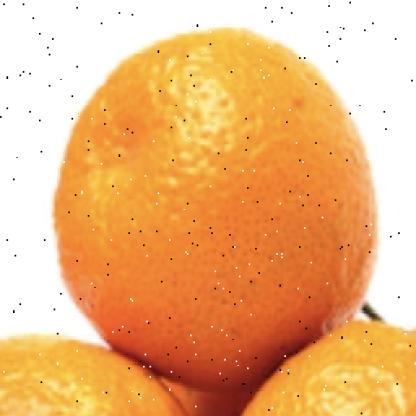fresh: (58, 27, 381, 386)
